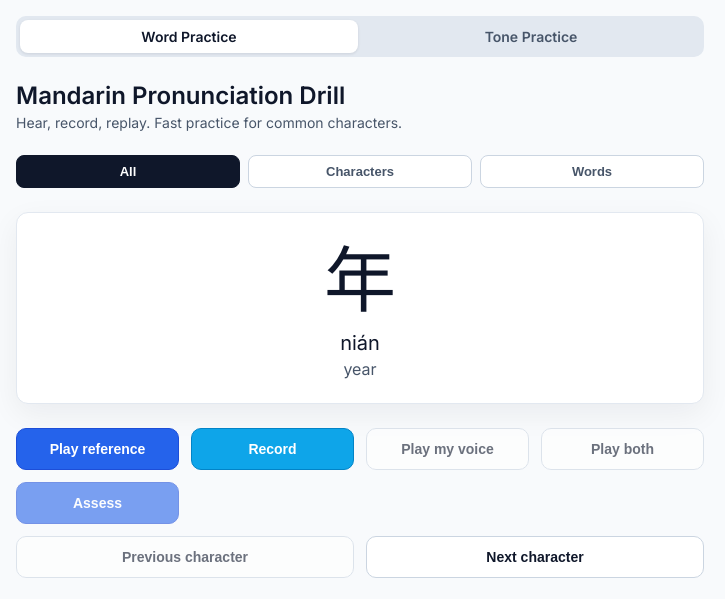
Test: App integration › Previous is enabled after navigating forward
Click the button labelled "Next character". click: (535, 557)
box: [366,536,704,578]
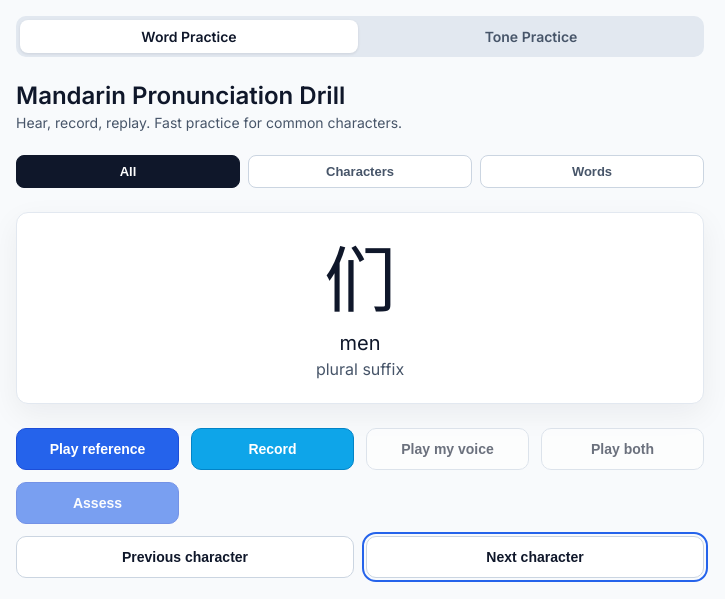
Expected: the button labelled "Previous character" is enabled, [16,536,354,578]
